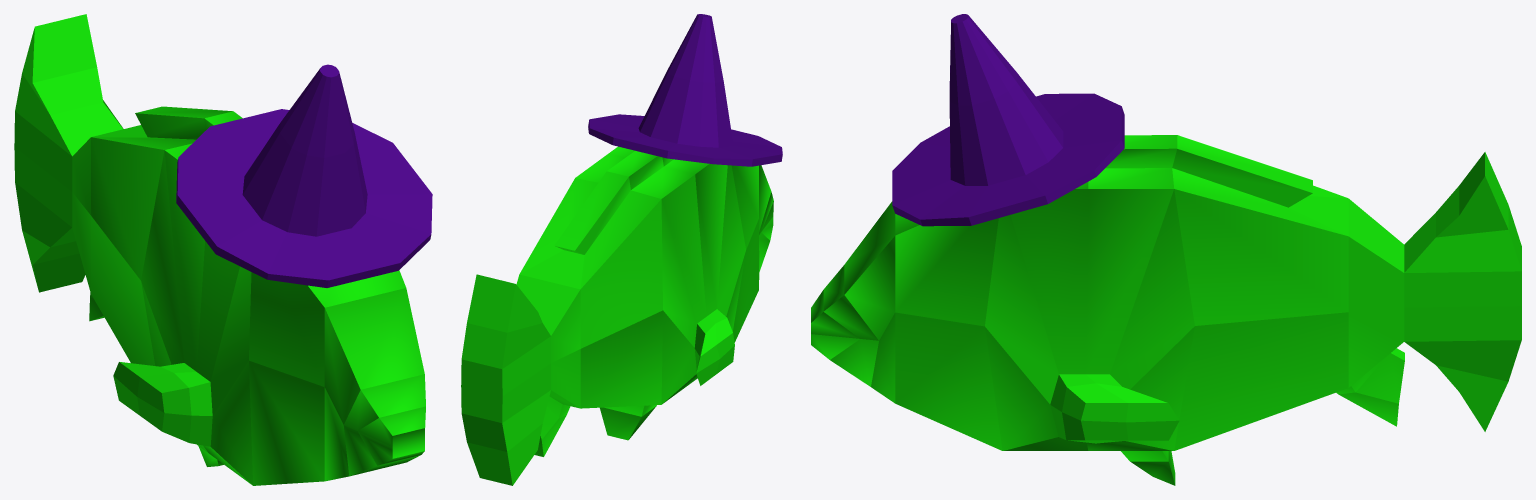
Rendered from CarpaMagica.fbx.
The picture shows the model from 3 angles, left to right: view 1: azimuth 30°, elevation 25°; view 2: azimuth 150°, elevation 25°; view 3: azimuth 270°, elevation 25°; orthographic projection. The views are drawn at different scales.
Parts seen in each view (by area): view 1: CarpaMagica; view 2: CarpaMagica; view 3: CarpaMagica.
Part boxes in pixels (x1,y1,x2,y2): CarpaMagica: (14,14,432,485); CarpaMagica: (461,14,782,485); CarpaMagica: (811,14,1521,485).
Size of the model in its own units: 2.33 by 4.85 by 6.77.
